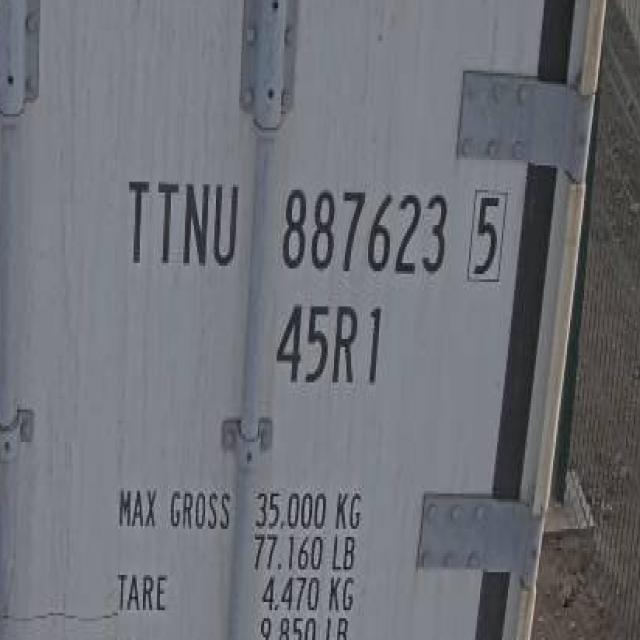dv: (458, 183, 514, 290)
owner: (124, 170, 242, 276)
serial: (278, 178, 452, 286)
size: (268, 294, 391, 392)
